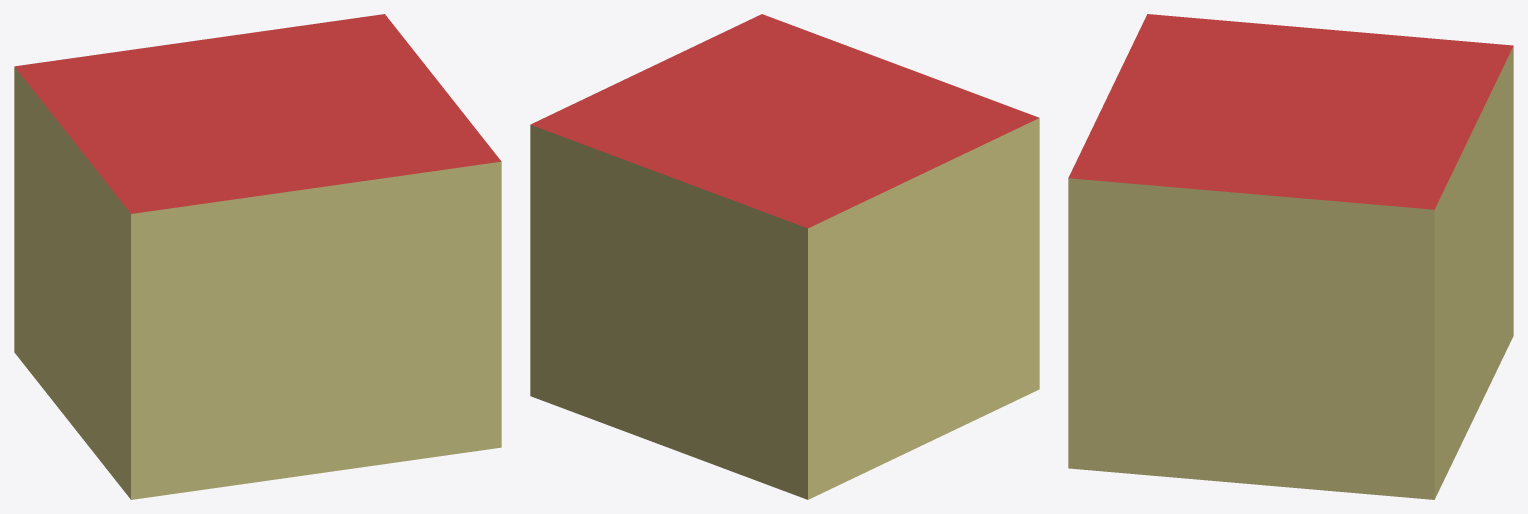
3 renders of one model, left to right at view 1: azimuth 30°, elevation 25°; view 2: azimuth 150°, elevation 25°; view 3: azimuth 270°, elevation 25°, orthographic. The views are drawn at different scales.
Visible parts, largest first — view 1: group_4, group_3; view 2: group_4, group_3; view 3: group_4, group_3.
Boxes of the visible parts, x1=… form: group_4: x1=14, y1=67, x2=501, y2=499; group_3: x1=14, y1=14, x2=501, y2=213; group_4: x1=530, y1=118, x2=1039, y2=499; group_3: x1=530, y1=14, x2=1039, y2=228; group_4: x1=1068, y1=46, x2=1513, y2=499; group_3: x1=1068, y1=14, x2=1513, y2=209.
Bounding box in the file's own units: 8.38 × 8.06 × 5.8.
